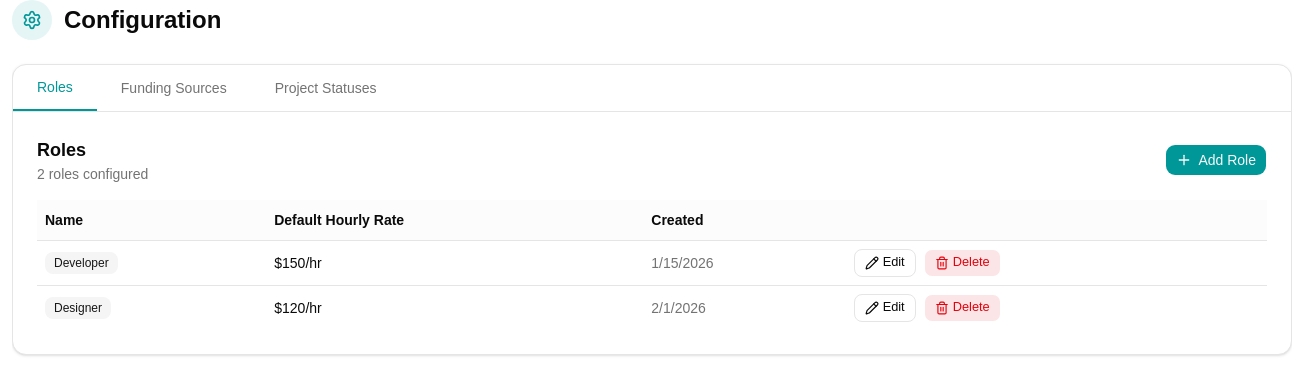
Test case: ConfigurationPage › should switch to funding sources tab and display sources
Click the tab with test id "configuration-tab-funding-sources" at (174, 88), box [97,65,251,111]
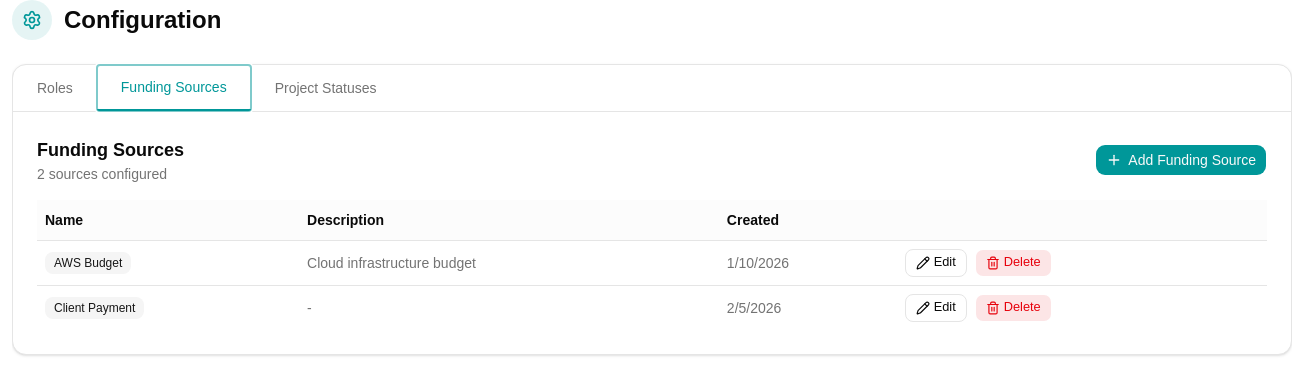
Now the table with test id "funding-sources-table" is shown, box [37,200,1267,330]
Now the text "AWS Budget" is shown, box [45,252,131,274]
Now the text "Client Payment" is shown, box [45,296,144,318]
